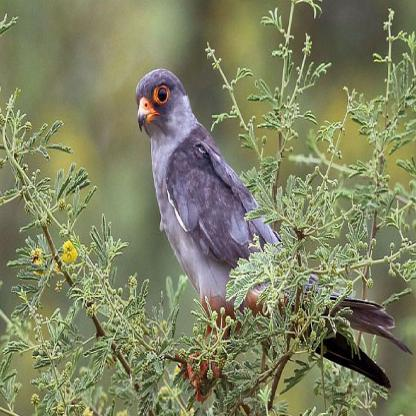Burung: (132, 70, 416, 382)
